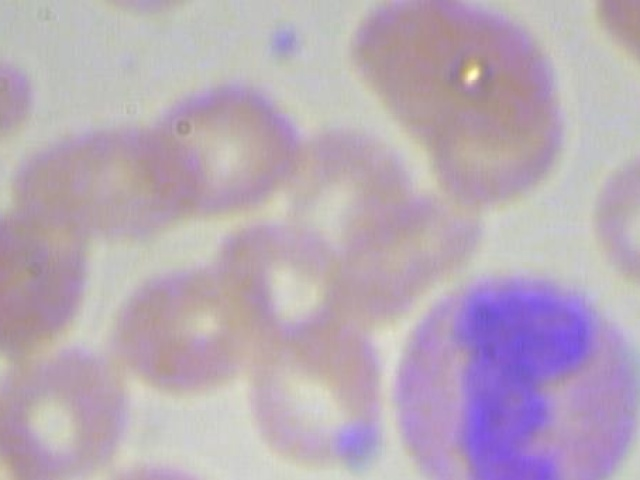Platelets: (259, 11, 312, 66)
RBC: (147, 75, 321, 216), (238, 322, 401, 471), (0, 346, 153, 480), (0, 37, 58, 157), (585, 0, 640, 86), (51, 0, 225, 25), (83, 454, 249, 480)
WBC: (375, 261, 640, 480)
